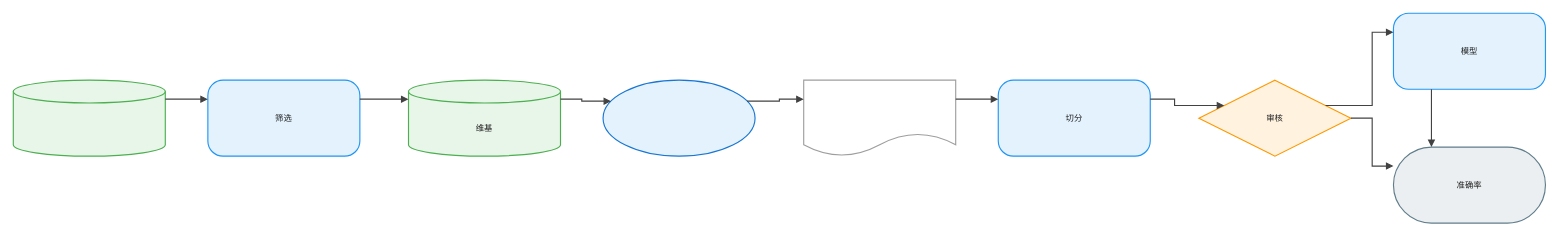
This 1560x237 diagram has some shape labels left out. Each missing label, with the box of its shape:
NQ: (12, 79, 166, 156)
标注: (602, 79, 755, 156)
段落: (803, 79, 956, 156)
